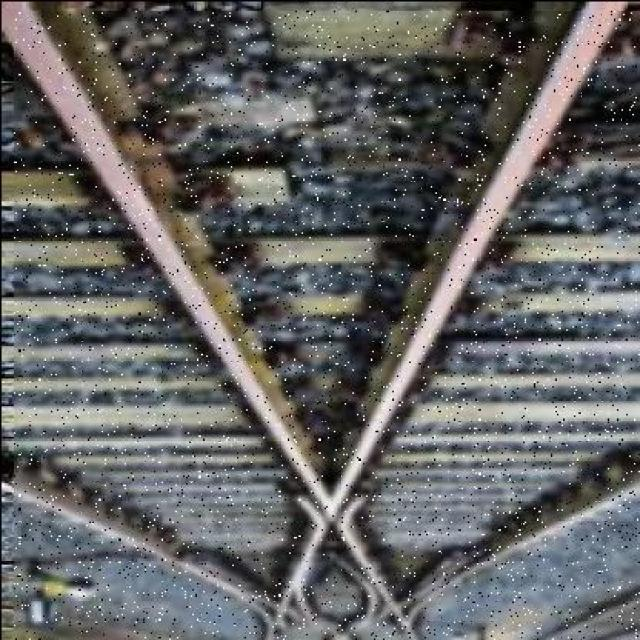rail: (14, 10, 640, 640)
